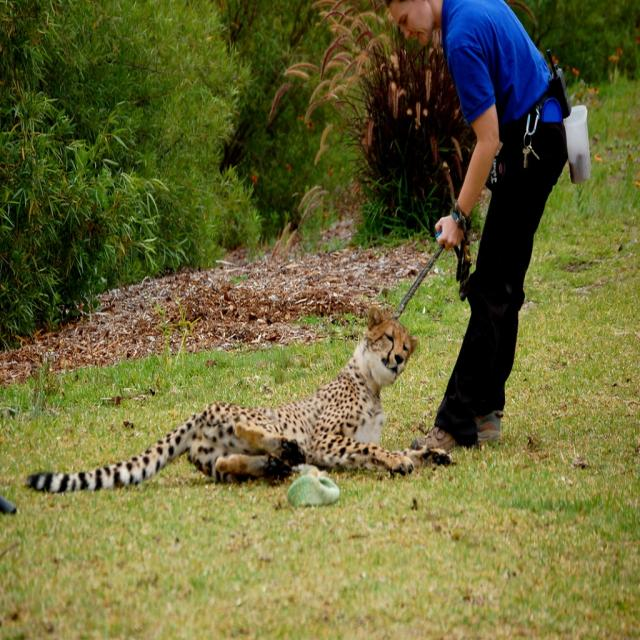Cheetah: (18, 307, 456, 519)
